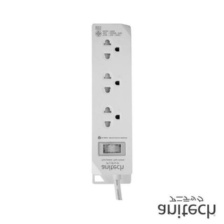three_eye_plug: (89, 18, 133, 188)
